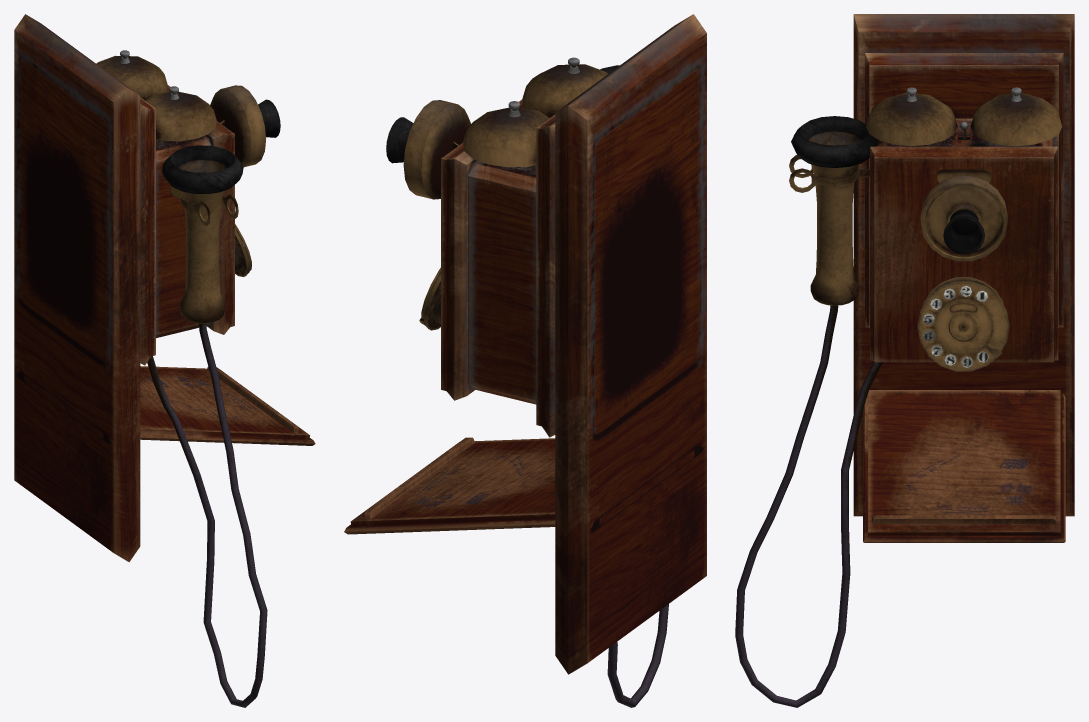
Rendered from obj_antique_telephone_de179c.glb.
3 renders of one model, left to right at view 1: azimuth 30°, elevation 25°; view 2: azimuth 150°, elevation 25°; view 3: azimuth 270°, elevation 25°, orthographic. The views are drawn at different scales.
Visible parts, largest first — view 1: obj_antique_telephone_de179c; view 2: obj_antique_telephone_de179c; view 3: obj_antique_telephone_de179c.
Part boxes in pixels (box(x1,y1,x2,y2)): obj_antique_telephone_de179c: box(14, 14, 315, 707); obj_antique_telephone_de179c: box(344, 14, 706, 707); obj_antique_telephone_de179c: box(735, 14, 1074, 707).
Size of the model in its own units: 0.0493 by 0.14 by 0.066.
2 materials, 2 textured.
